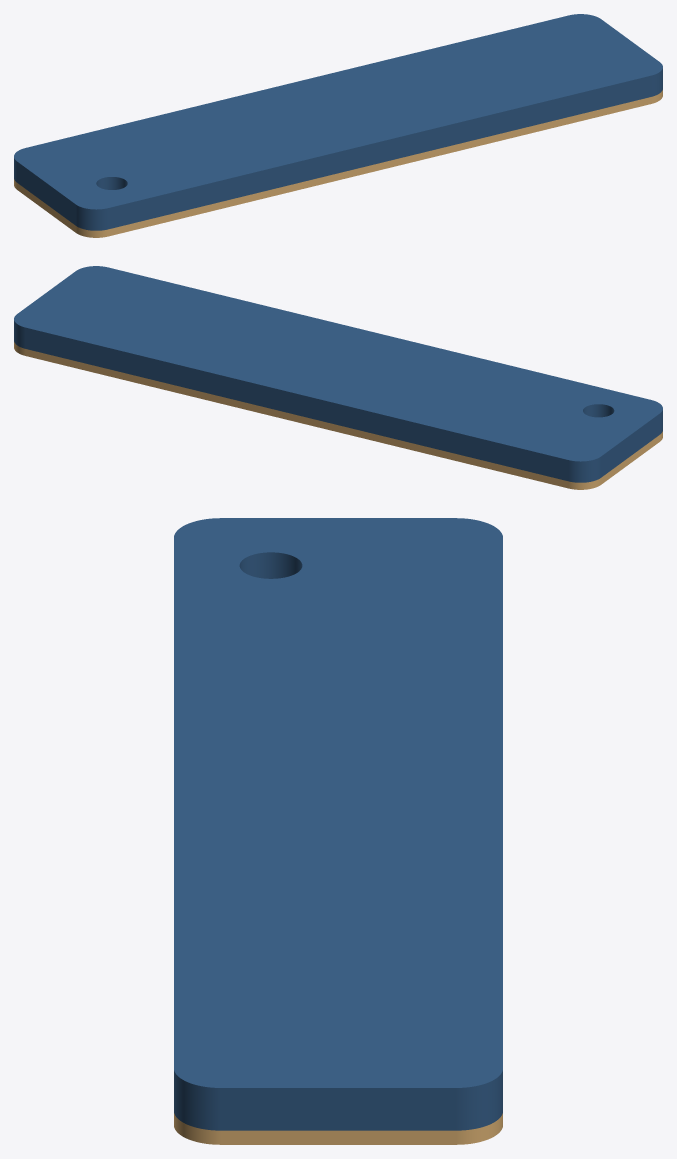
Rendered from key.glb.
The picture shows the model from 3 angles, top to bottom: view 1: azimuth 30°, elevation 25°; view 2: azimuth 150°, elevation 25°; view 3: azimuth 270°, elevation 25°; orthographic projection. The views are drawn at different scales.
Parts seen in each view (by area): view 1: Part 1, Part 2; view 2: Part 1, Part 2; view 3: Part 1, Part 2.
Part boxes in pixels (bbox=[...]): Part 1: bbox=[14, 14, 662, 230]; Part 2: bbox=[14, 90, 662, 237]; Part 1: bbox=[14, 266, 662, 482]; Part 2: bbox=[14, 342, 662, 489]; Part 1: bbox=[174, 518, 502, 1130]; Part 2: bbox=[174, 1113, 502, 1144].
Bounding box in the file's own units: 0.086 × 0.004 × 0.021.
